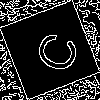C: (25, 25, 82, 77)
